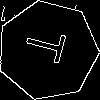T: (23, 25, 76, 67)
